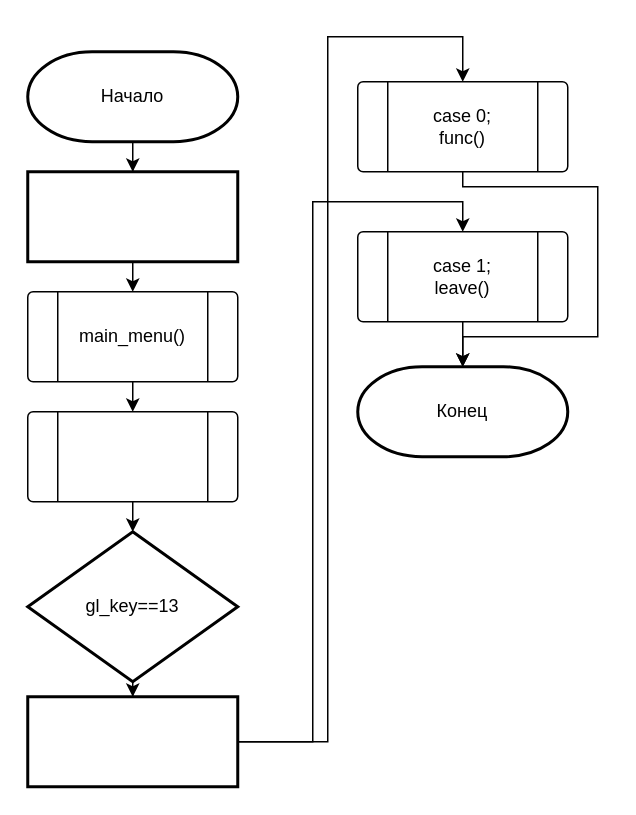
This 636x815 diagram has some shape labels left out. The shapes that lost their labels are listed below. From the top down, each one's box as (x1, y1, x2, y2) in pixels, then its label:
(26, 170, 238, 262): ОЧИСТКА ЭКРАНА
(26, 410, 238, 502): enter()
(26, 694, 238, 788): switch (gl_pos)
